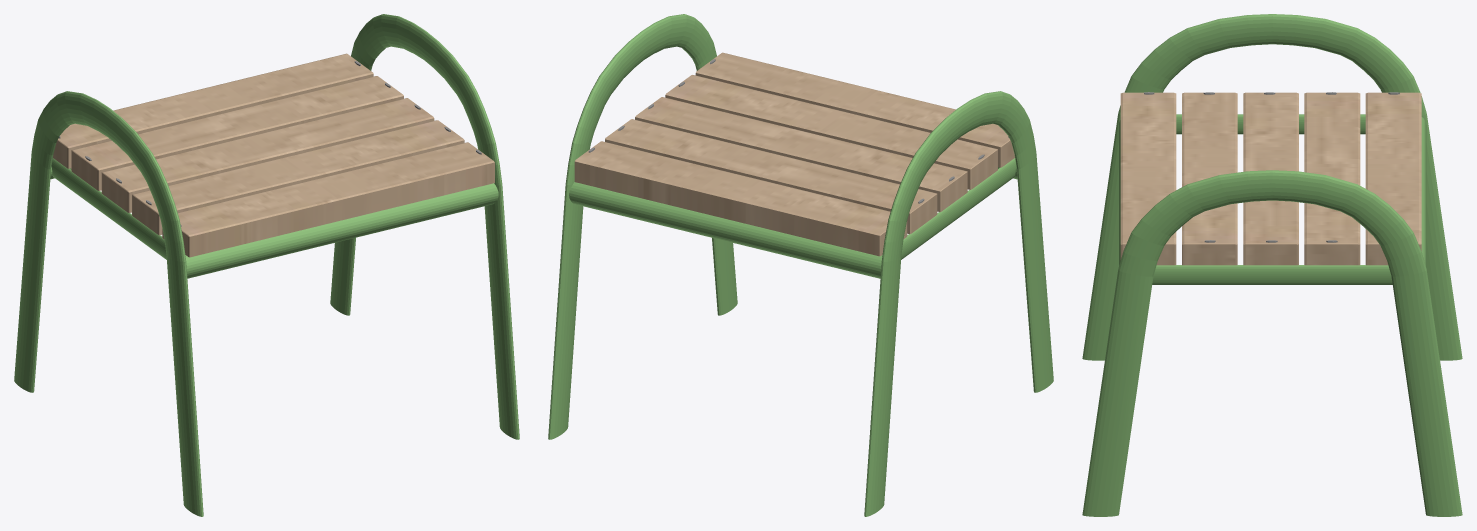
File: sh-bs0-bench.glb
3 views of the same model, side by side, from view 1: azimuth 30°, elevation 25°; view 2: azimuth 150°, elevation 25°; view 3: azimuth 270°, elevation 25° (orthographic).
Visible parts, largest first — view 1: Bench, Structure; view 2: Bench, Structure; view 3: Structure, Bench.
Part boxes in pixels (x1,y1,x2,y2): Bench: (53,53,494,257); Structure: (14,14,519,516); Bench: (574,52,1014,256); Structure: (548,14,1053,516); Structure: (1082,14,1462,516); Bench: (1120,92,1421,265).
Size of the model in its own units: 1 by 1 by 1.
3 materials, 1 textured.
